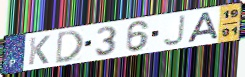3: (94, 25, 120, 57)
6: (126, 19, 151, 53)
A: (185, 10, 221, 44)
D: (54, 29, 85, 65)
J: (161, 14, 187, 47)
K: (27, 34, 52, 67)
